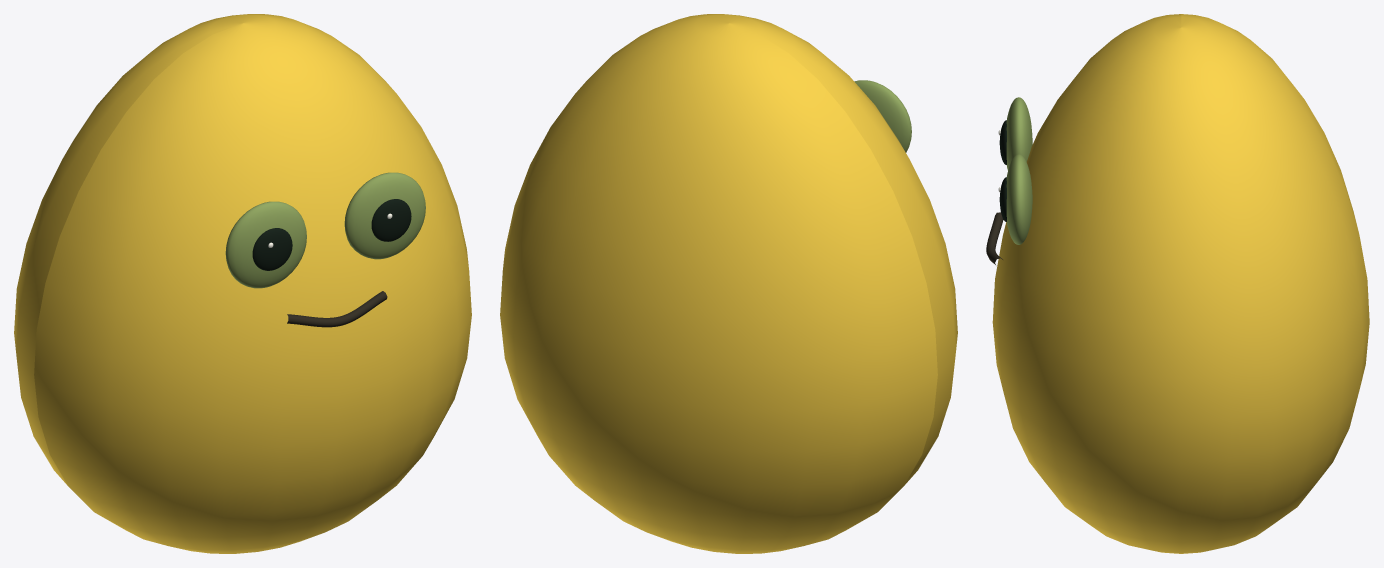
Rendered from naidan.glb.
3 renders of one model, left to right at view 1: azimuth 30°, elevation 25°; view 2: azimuth 150°, elevation 25°; view 3: azimuth 270°, elevation 25°, orthographic.
Visible parts, largest first — view 1: egg_body, iris (×2), pupil (×2), smile; view 2: egg_body, iris; view 3: egg_body, iris (×2), smile.
Part boxes in pixels (x1,y1,x2,y2): egg_body: [14, 14, 471, 553]; iris (×2): [225, 172, 425, 288]; pupil (×2): [252, 199, 411, 270]; smile: [287, 291, 387, 327]; egg_body: [500, 14, 957, 553]; iris: [854, 80, 911, 152]; egg_body: [992, 14, 1369, 553]; iris (×2): [1006, 97, 1032, 244]; smile: [986, 212, 1003, 264].
Bounding box in the file's own units: 1.19 × 1.4 × 0.9677.
